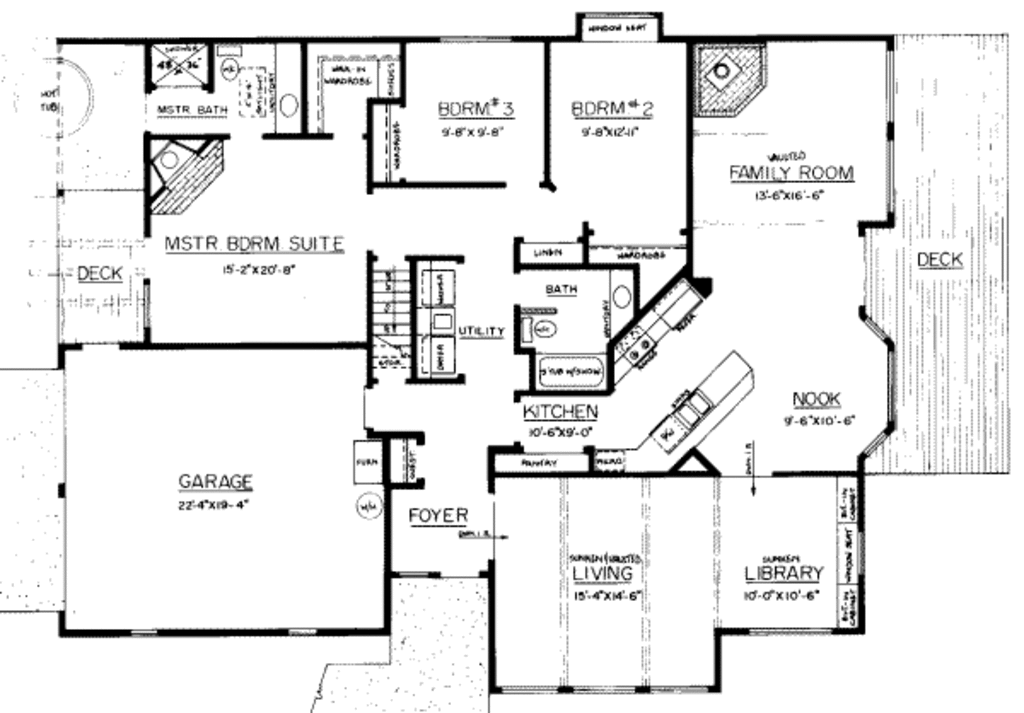large_sink: (216, 41, 250, 85), (520, 312, 564, 345)
small_sink: (276, 75, 303, 136), (612, 268, 640, 318)
stairs: (366, 249, 415, 386)
tub: (538, 357, 614, 391)
twin_sink: (669, 386, 723, 425)
window: (881, 344, 903, 424), (570, 674, 642, 697), (859, 425, 895, 460), (750, 625, 832, 636), (863, 316, 894, 343), (648, 680, 709, 692), (501, 683, 564, 694), (855, 530, 867, 579), (287, 626, 320, 641), (129, 626, 156, 641)
